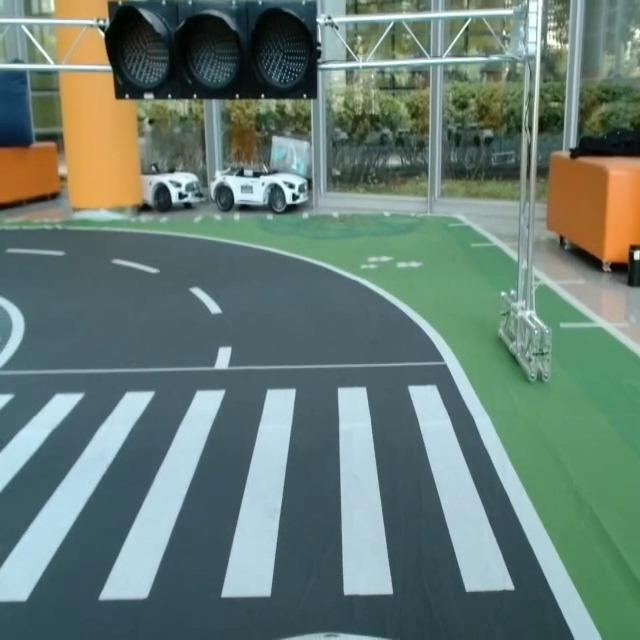traffic-light: (97, 0, 323, 103)
